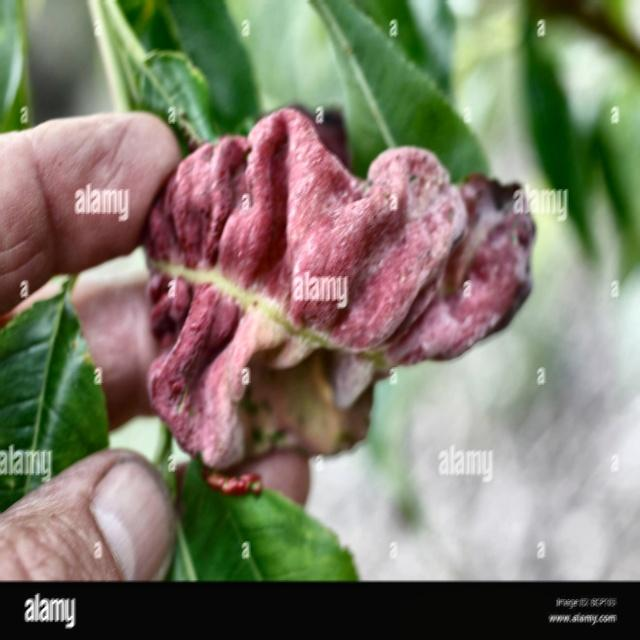leaf_curl: (108, 90, 578, 434)
